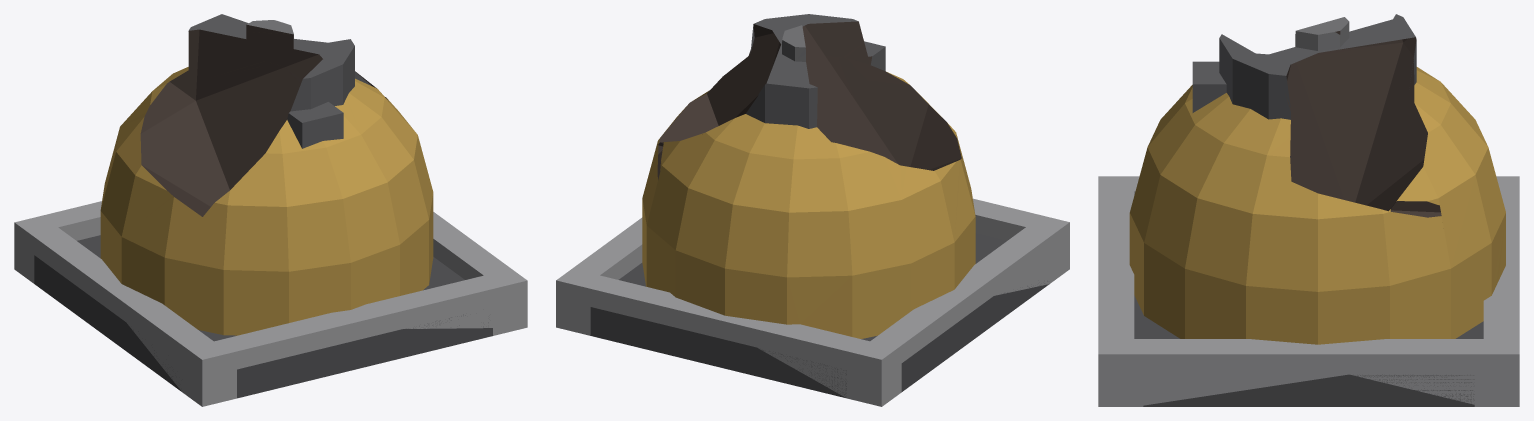
File: vge_d_auxiliaryoxygentank.obj
The picture shows the model from 3 angles, left to right: view 1: azimuth 30°, elevation 25°; view 2: azimuth 150°, elevation 25°; view 3: azimuth 270°, elevation 25°; orthographic projection. The views are drawn at different scales.
Parts seen in each view (by area): view 1: vge_d_auxiliaryoxygentank; view 2: vge_d_auxiliaryoxygentank; view 3: vge_d_auxiliaryoxygentank.
Part boxes in pixels (x1,y1,x2,y2): vge_d_auxiliaryoxygentank: [14, 14, 527, 406]; vge_d_auxiliaryoxygentank: [556, 14, 1069, 406]; vge_d_auxiliaryoxygentank: [1098, 14, 1519, 406].
Bounding box in the file's own units: 0.94 × 0.73 × 0.94.
